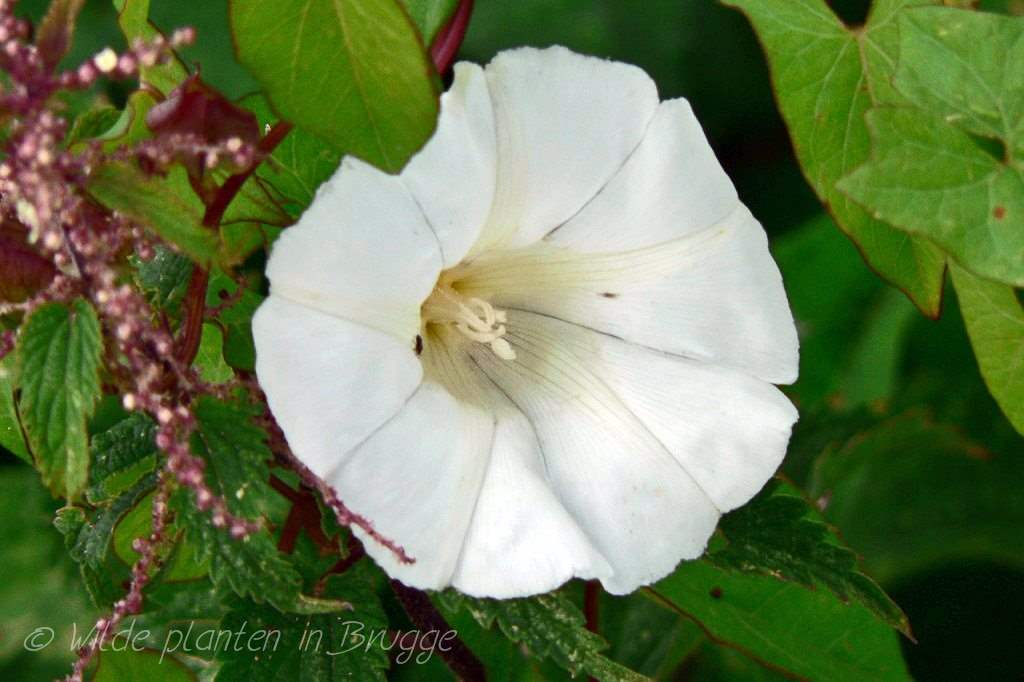haagwinde: (233, 35, 845, 626)
